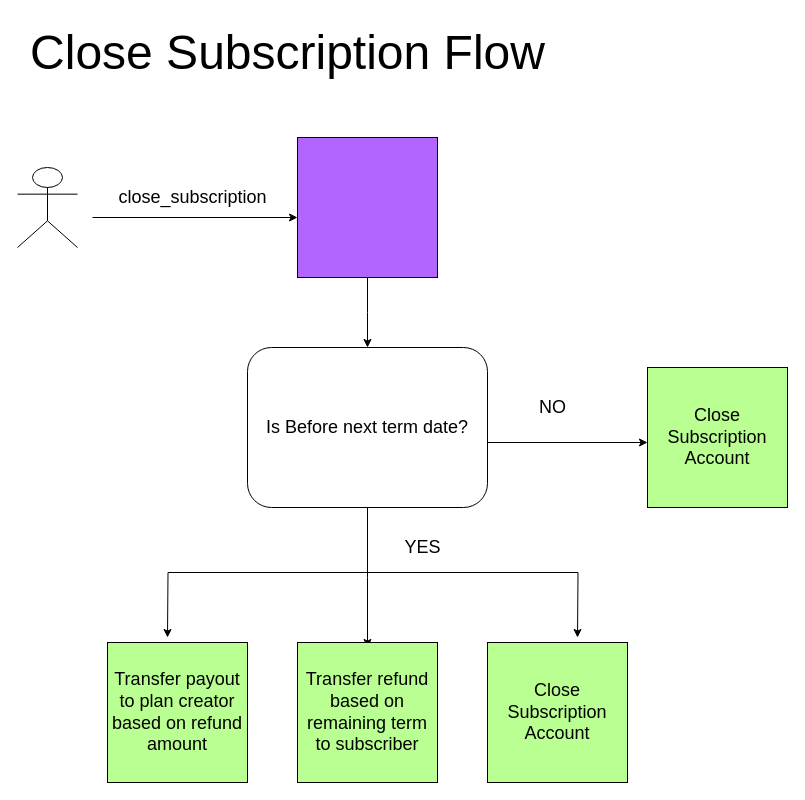
Some shapes in this 805 by 800 pixel diagram are drawn without their labels. Each missing label, with the centre of its shape:
"Solana Program" goes at point (367, 207).
"Subscriber" goes at point (47, 207).
